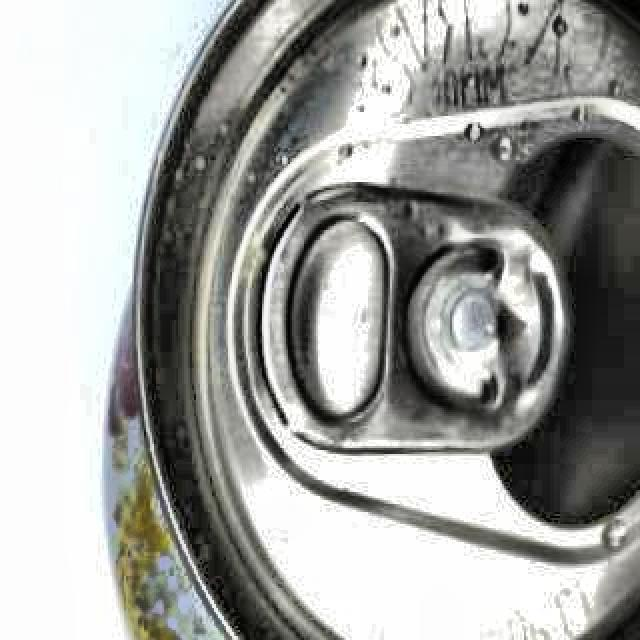metal: (99, 0, 640, 640)
